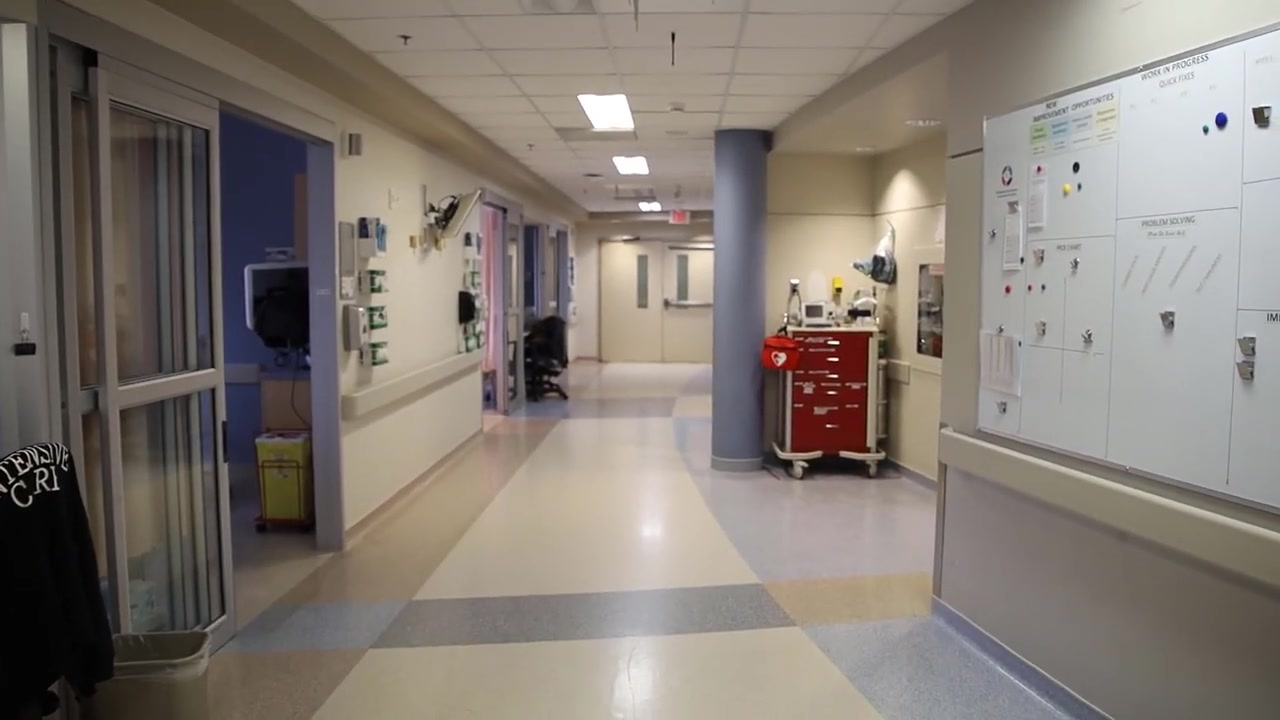TV: (440, 190, 483, 239)
bedside_monitor: (245, 264, 309, 330)
chair: (524, 318, 569, 400)
curtain: (481, 208, 496, 373)
dispenser: (357, 217, 389, 259), (342, 303, 369, 351), (359, 269, 390, 294), (360, 341, 389, 367), (363, 304, 389, 331), (458, 290, 476, 324)
hallway_assist_bar: (938, 426, 1280, 587), (341, 345, 485, 420)
handle: (823, 423, 841, 430), (823, 389, 841, 396), (823, 372, 841, 379), (824, 340, 842, 347), (823, 356, 841, 362)
medical_drawer: (773, 323, 888, 480)
push_latch: (666, 299, 712, 310)
waste_bin: (88, 629, 212, 720), (255, 430, 312, 533)
